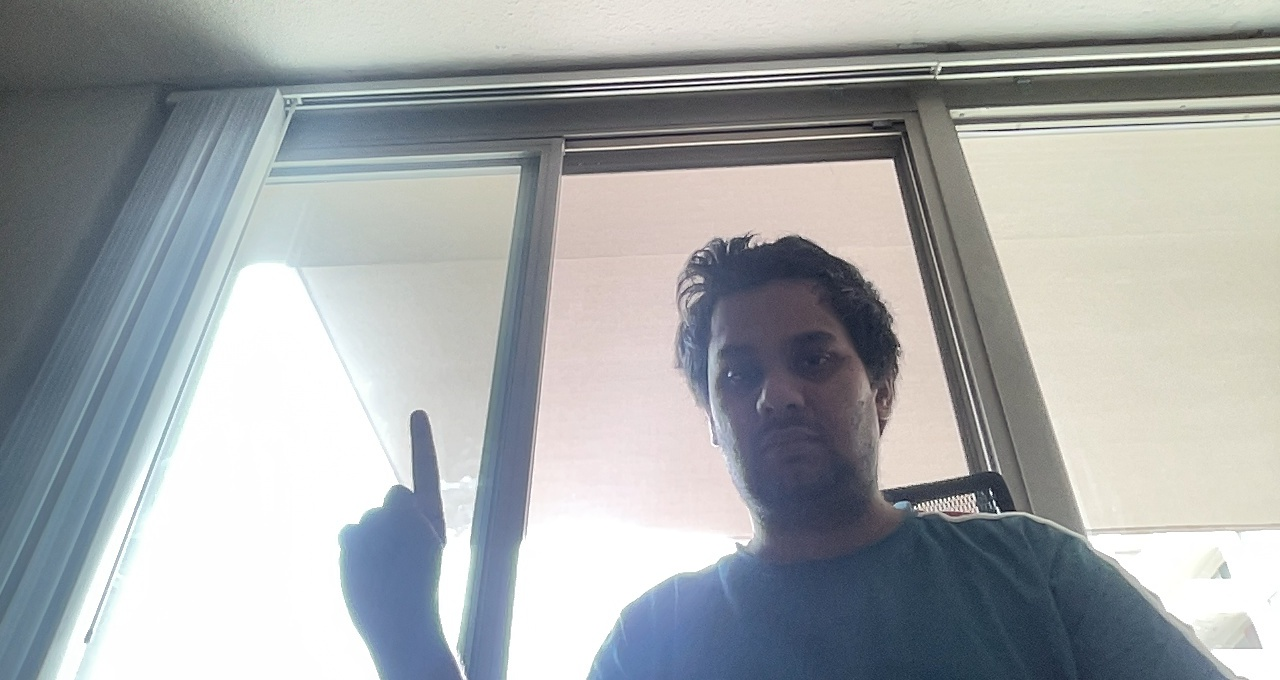fingerup: (327, 402, 456, 584)
